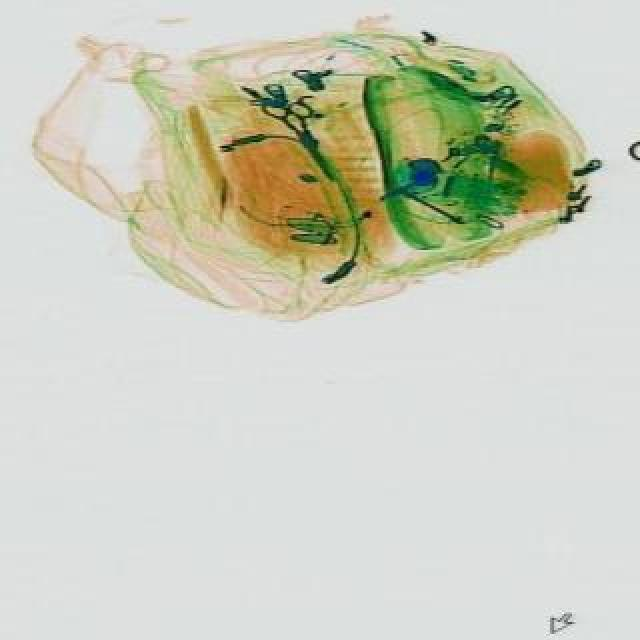pliers: (254, 88, 346, 194)
